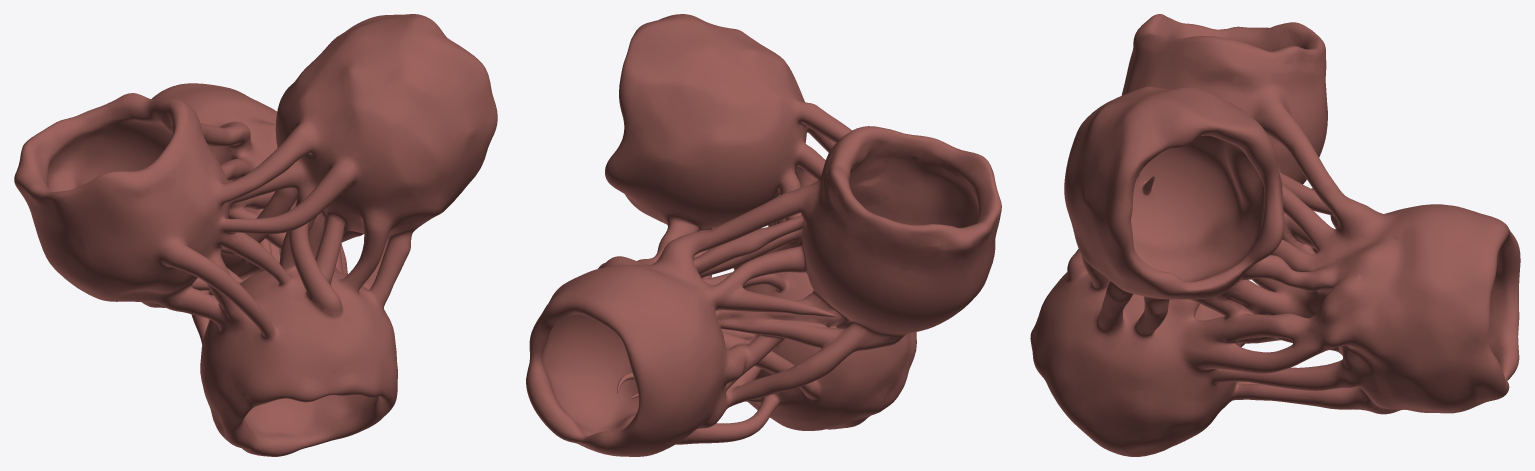
The model's file is 4joint.glb.
The picture shows the model from 3 angles, left to right: view 1: azimuth 30°, elevation 25°; view 2: azimuth 150°, elevation 25°; view 3: azimuth 270°, elevation 25°; orthographic projection. The views are drawn at different scales.
Visible parts, largest first — view 1: foo; view 2: foo; view 3: foo.
Boxes of the visible parts, bbox=[...] form: foo: bbox=[14, 14, 497, 456]; foo: bbox=[526, 14, 1001, 456]; foo: bbox=[1030, 14, 1520, 456].
Size of the model in its own units: 2.05 by 1.84 by 1.99.
